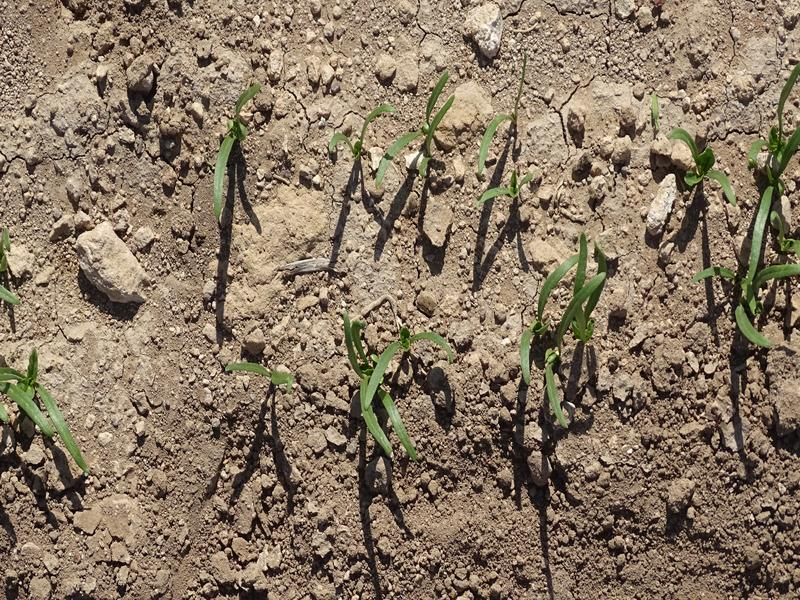Espinaca: (512, 232, 605, 427), (733, 91, 800, 344), (343, 326, 454, 462), (330, 82, 457, 191), (1, 351, 92, 473), (481, 61, 531, 203), (211, 84, 262, 219), (664, 129, 730, 197), (224, 357, 298, 388)
